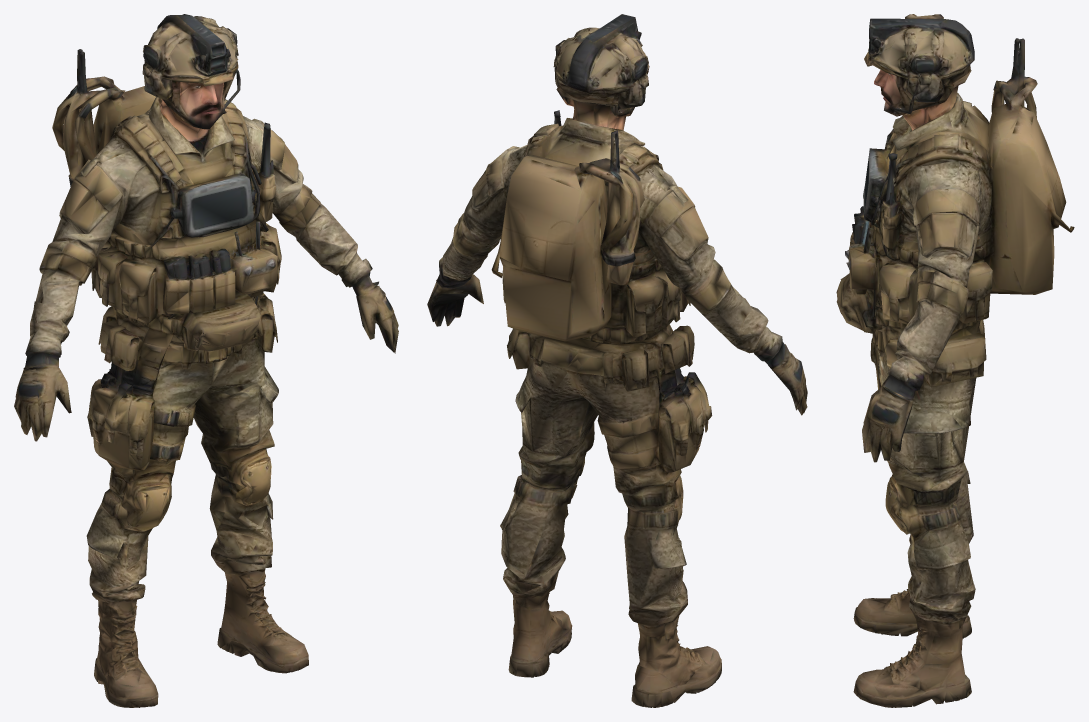
The model's file is soldier_iq_4.glb.
3 views of the same model, side by side, from view 1: azimuth 30°, elevation 25°; view 2: azimuth 150°, elevation 25°; view 3: azimuth 270°, elevation 25° (orthographic).
Parts seen in each view (by area): view 1: node_0; view 2: node_0; view 3: node_0.
Part boxes in pixels (box(x1,y1,x2,y2)): node_0: box(14, 14, 398, 707); node_0: box(427, 14, 807, 707); node_0: box(836, 14, 1074, 707).
Size of the model in its own units: 0.6895 by 1.13 by 0.3797.
1 material, 1 textured.
